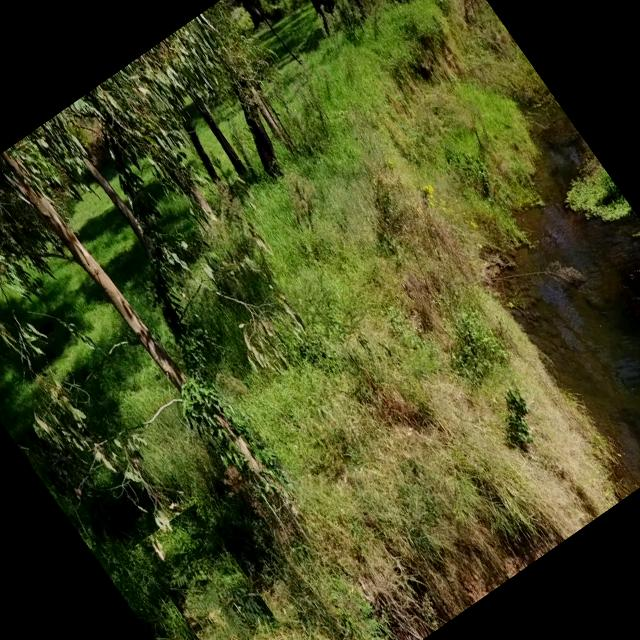Mysore-Thorn-Weed: (134, 503, 282, 640)
